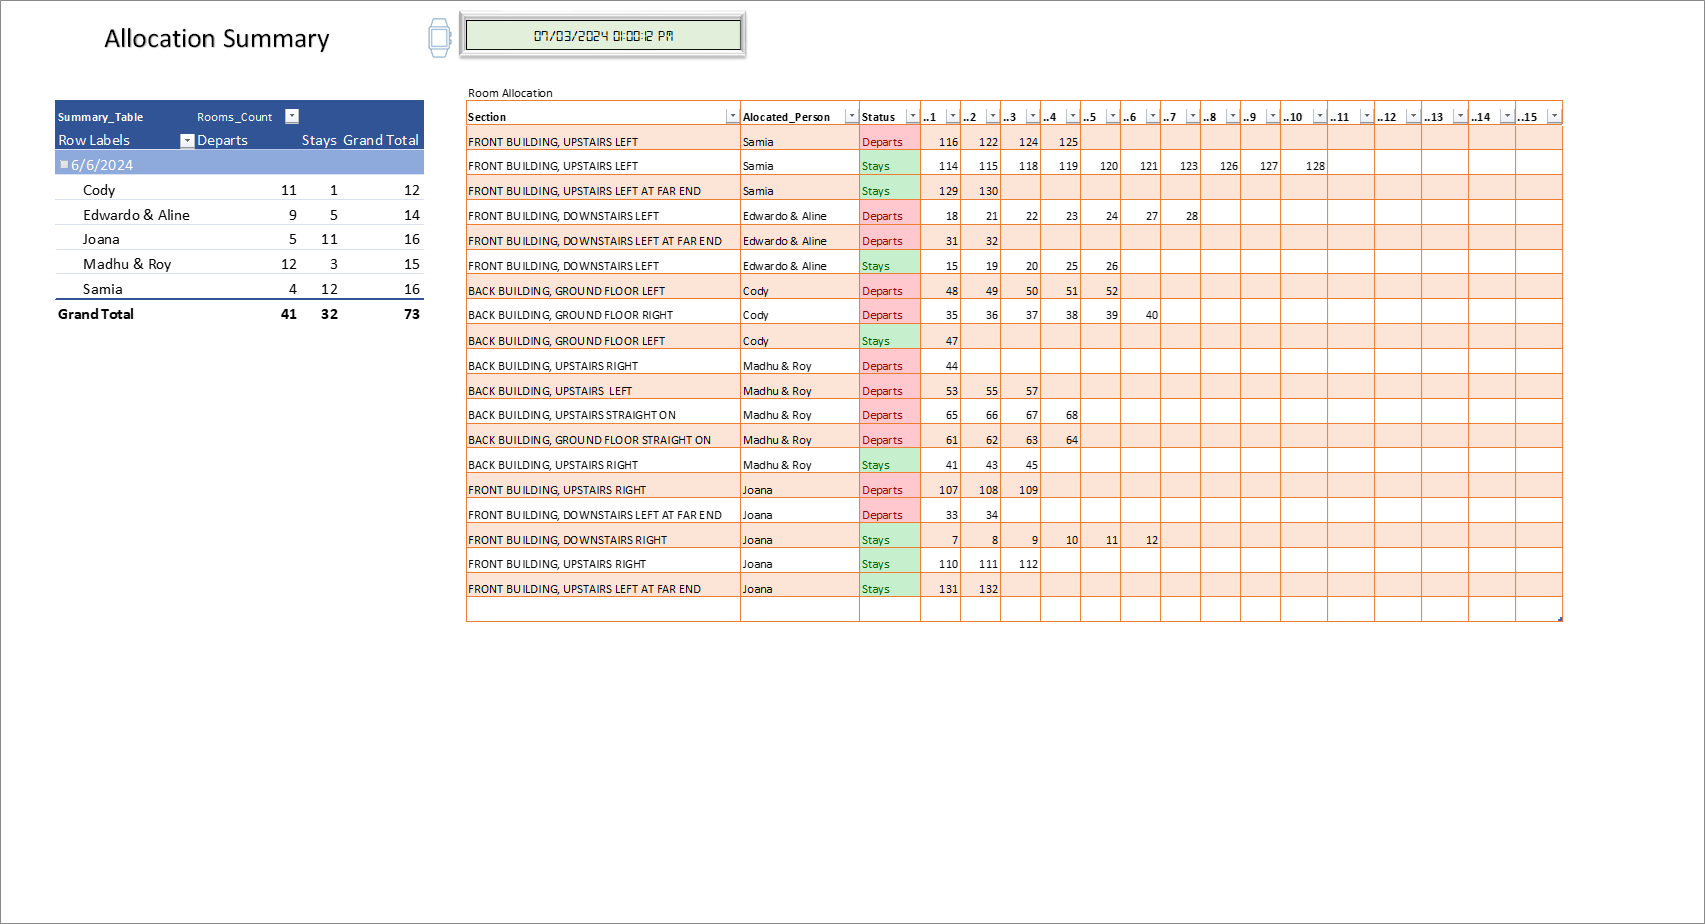

The page's visual inventory and layout, read from the dashboard file:
{"tool":"powerbi","page":{"name":"Descriptive","canvas":[1280,720],"ordinal":1},"visuals":[{"type":"pivotTable","fields":{"Rows":["MasterTbl.Date","MasterTbl.Alocated_Person","MasterTbl.Status"],"Values":["MasterTbl.Room_Number","MasterTbl.TotalDurationFormatted","MasterTbl.DistinctCountEmp"]},"box":[18.6,0,688.1,720.6],"z":0},{"type":"pivotTable","fields":{"Rows":["PlanDay.Date","PlanDay.EmpName"],"Values":["PlanDay.Time_Duration","PlanDay.EmpName"]},"box":[738.3,12.3,485.8,484.4],"z":1000}]}

Visuals, with their boxes on the page's 1280x720 design canvas (x1, y1, x2, y2). These are canvas units, not pixel positions in the 1705x924 screenshot, which may show the page scaled, cropped or inside an application window:
pivotTable - MasterTbl.Date x MasterTbl.Alocated_Person: x1=19 y1=0 x2=707 y2=721
pivotTable - PlanDay.Date x PlanDay.EmpName: x1=738 y1=12 x2=1224 y2=497
